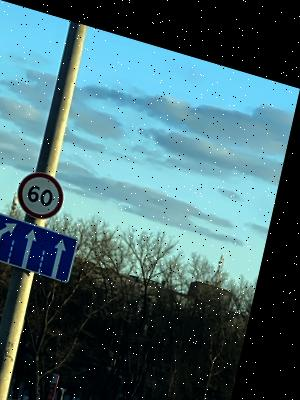Speed Limit -60-: (20, 160, 77, 219)
